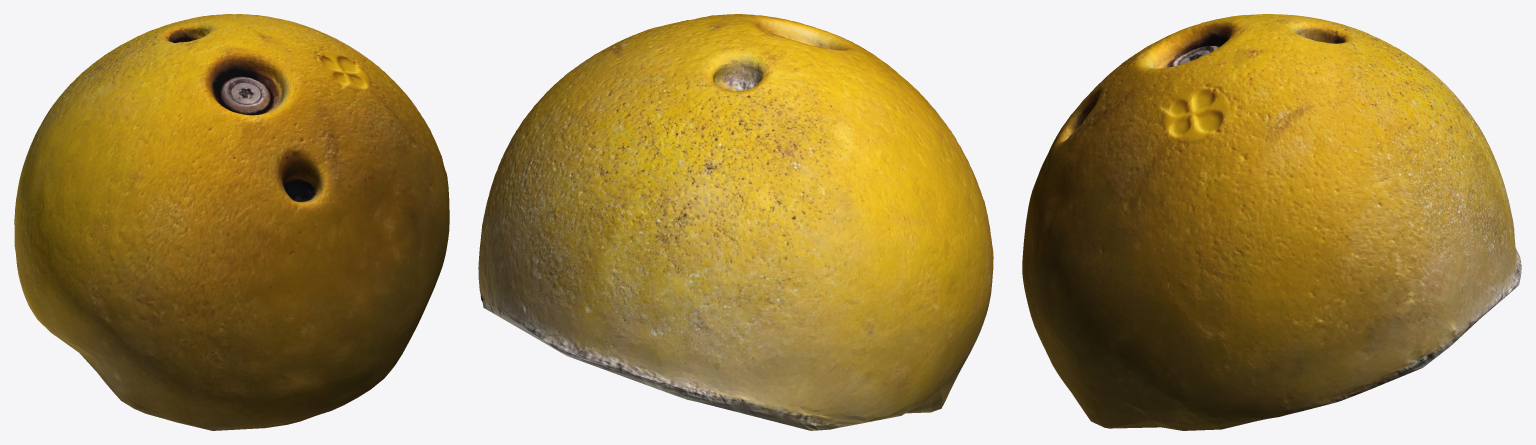
The model's file is Prise_seule_jaune.glb.
3 renders of one model, left to right at view 1: azimuth 30°, elevation 25°; view 2: azimuth 150°, elevation 25°; view 3: azimuth 270°, elevation 25°, orthographic. The views are drawn at different scales.
Size of the model in its own units: 0.6728 by 0.5593 by 0.673.
1 material, 1 textured.
